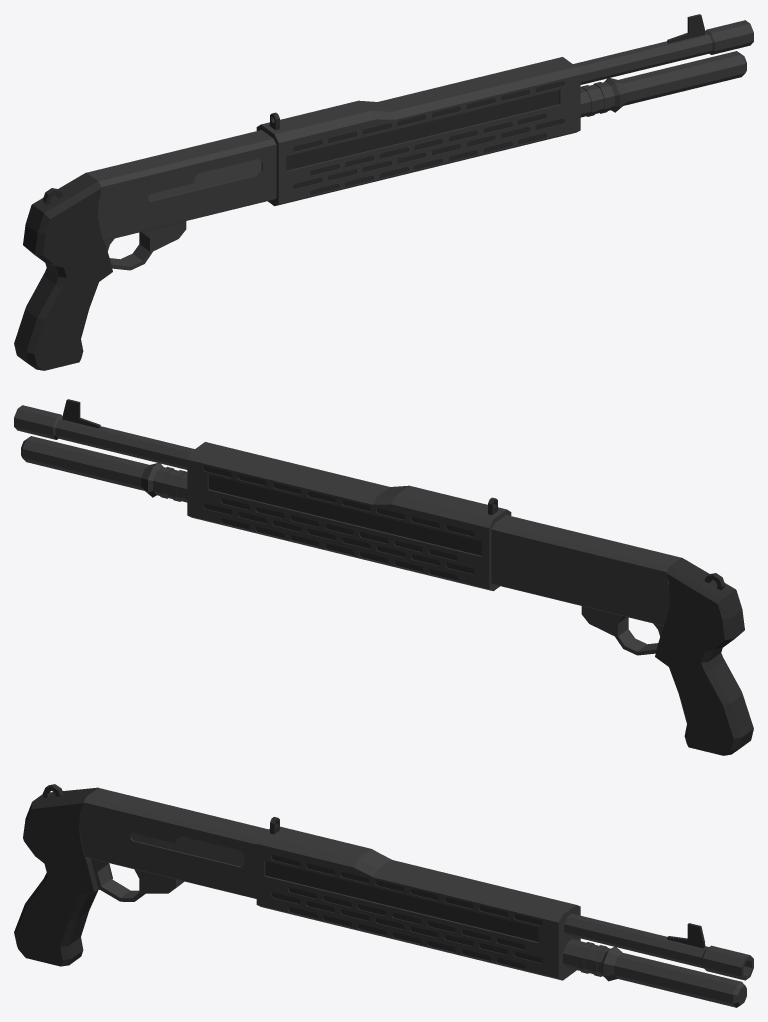
Rendered from Shotgun5_01.fbx.
3 views of the same model, one above another, from view 1: azimuth 30°, elevation 25°; view 2: azimuth 150°, elevation 25°; view 3: azimuth 330°, elevation 25° (orthographic).
Visible parts, largest first — view 1: Shotgun5_01; view 2: Shotgun5_01; view 3: Shotgun5_01.
Boxes of the visible parts, bbox=[...] form: Shotgun5_01: bbox=[14, 14, 753, 370]; Shotgun5_01: bbox=[14, 399, 753, 755]; Shotgun5_01: bbox=[14, 784, 753, 1007].
Size of the model in its own units: 0.8358 by 0.2102 by 0.0437.
